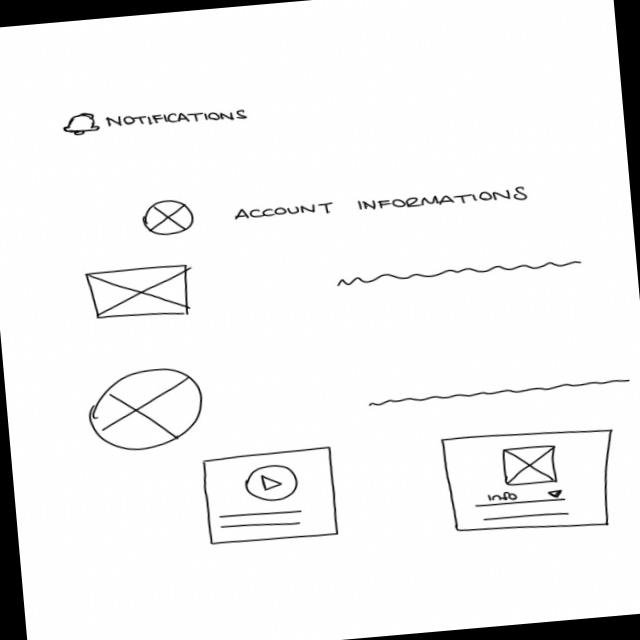container: (440, 422, 622, 540), (200, 444, 341, 549)
image: (84, 364, 206, 454), (82, 262, 193, 326), (500, 442, 560, 488), (140, 197, 196, 237)
label: (231, 181, 528, 227), (104, 101, 250, 133)
select: (470, 484, 568, 510)
text: (366, 374, 634, 408), (335, 253, 586, 289)
textbox: (215, 506, 310, 533)
